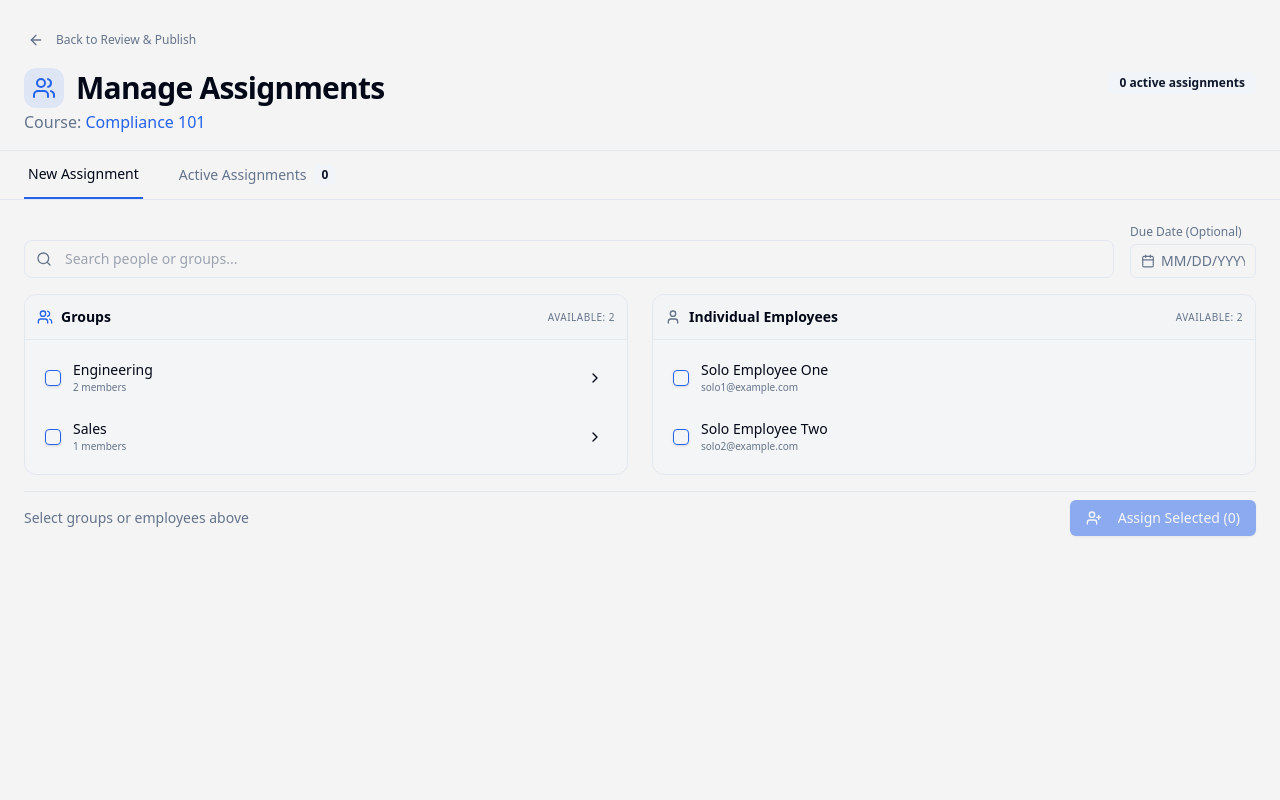
Test: ManagerTrainingAssignments — group expand on New Assignment tab › clicking the chevron a second time collapses the member list
Expected: the text "Engineering" is shown, [73,360,153,379]
Click the button titled "View members" in the row of "Engineering" at [595, 378], box [583,366,607,390]
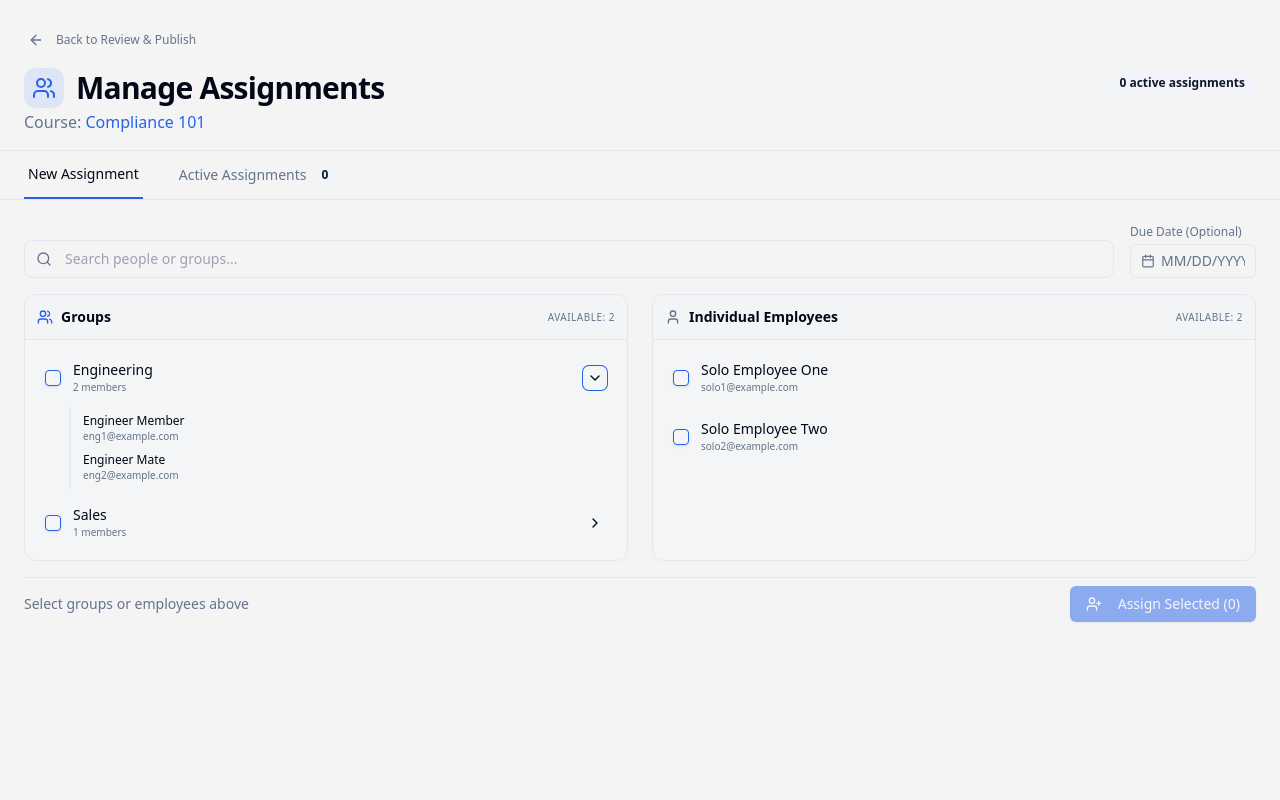
Expected: the text "Engineer Member" is shown, [83,412,185,429]
Button now reads "Hide members"
Click the button titled "Hide members" at [595, 378], box [583,366,607,390]
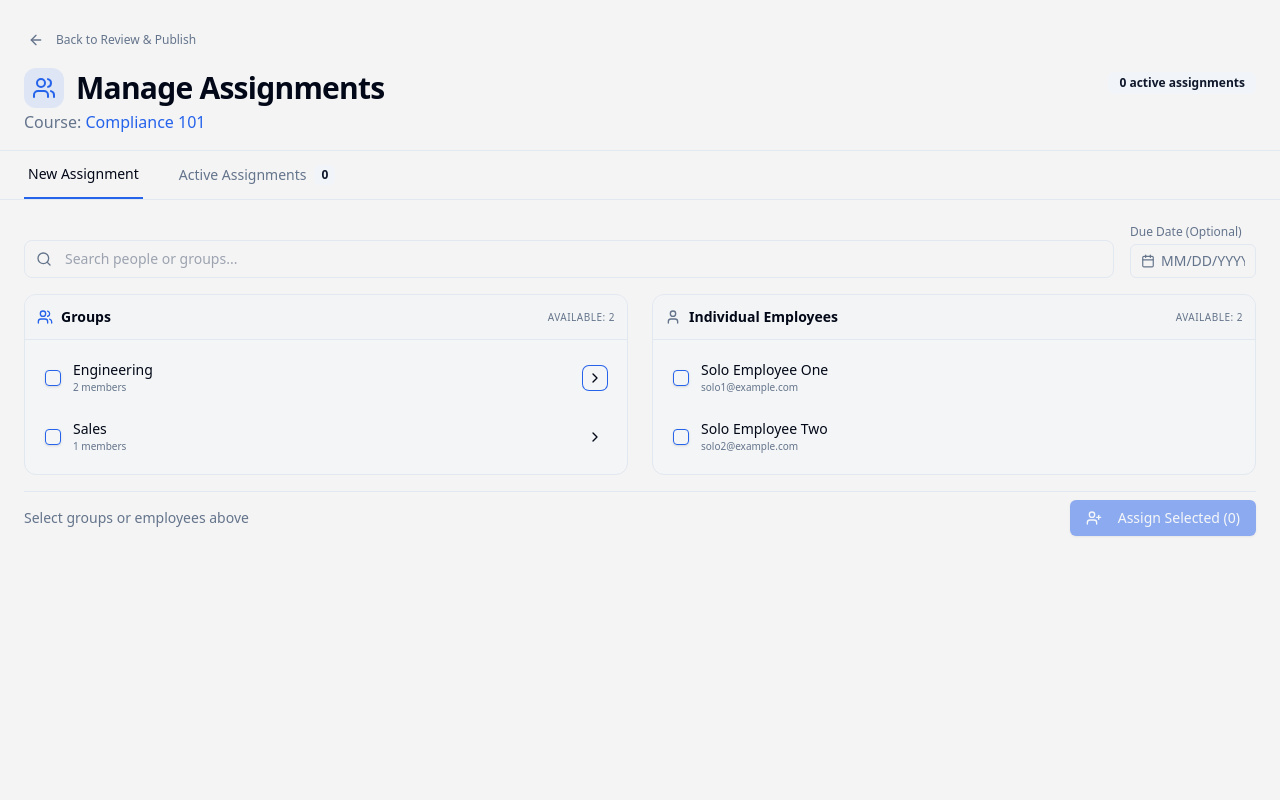
Expected: the text "Engineer Member" is gone
